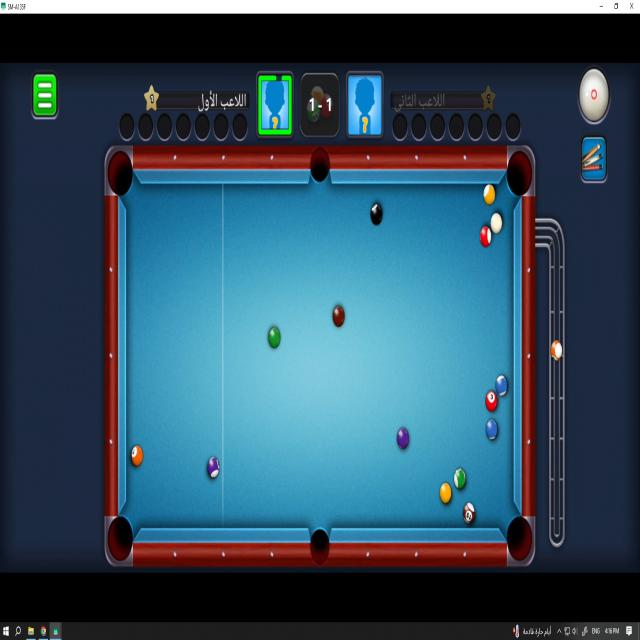object_ball: (397, 427, 409, 449), (333, 305, 345, 327), (370, 204, 382, 225), (454, 468, 466, 489), (268, 327, 280, 348), (496, 375, 507, 397), (208, 457, 219, 478), (480, 226, 491, 247), (486, 419, 497, 440), (440, 483, 451, 503), (486, 391, 497, 411), (484, 185, 495, 205), (132, 446, 142, 466), (464, 503, 474, 523)
white_cue_ball: (490, 213, 502, 234)
